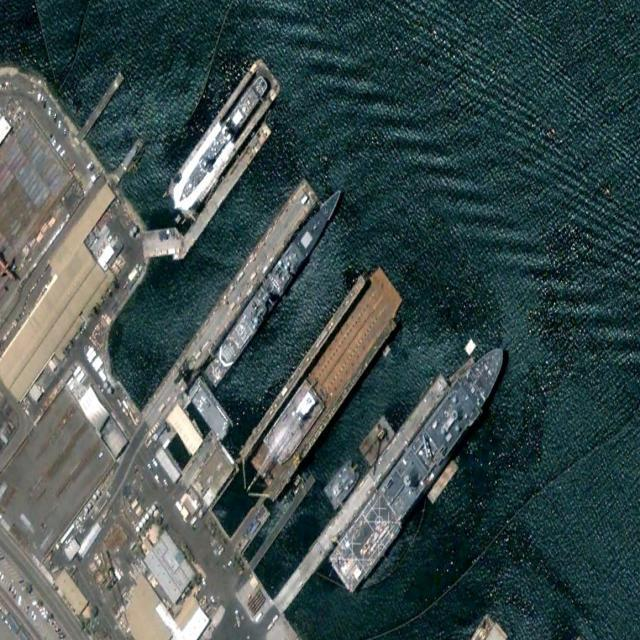Auxiliary Ships: (324, 331, 517, 601)
Cruiser: (201, 178, 348, 393)
Other Ship: (174, 73, 269, 211)
